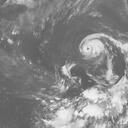cyclone: (78, 32, 106, 59)
